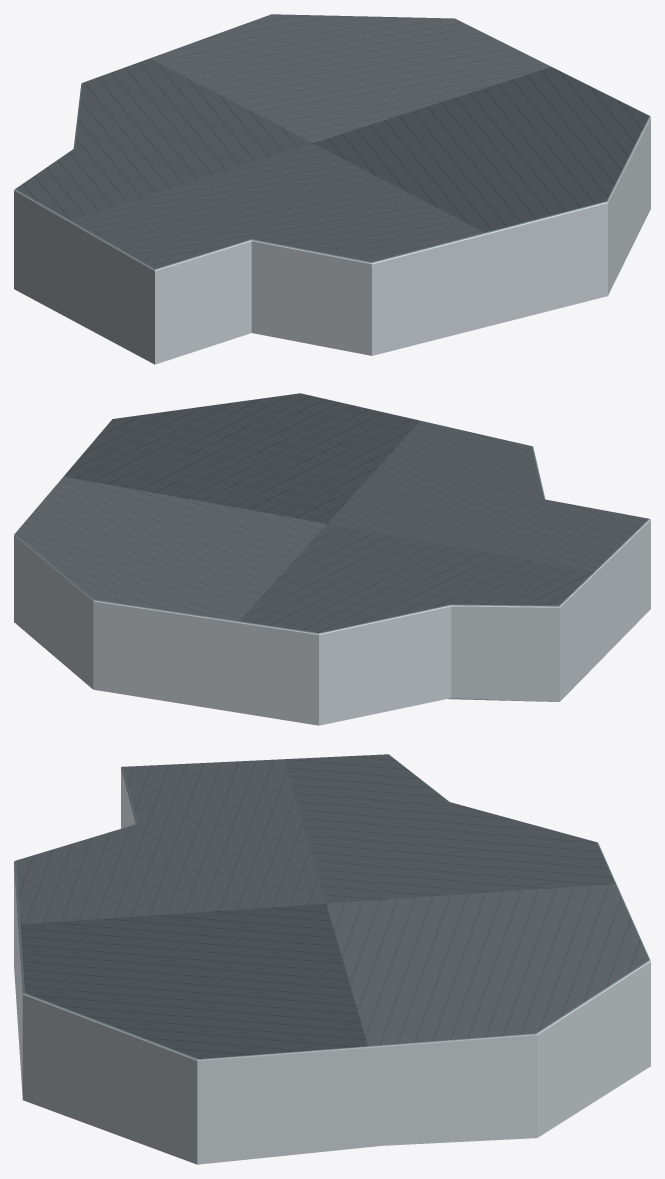
Rendered from fragments.glb.
3 views of the same model, one above another, from view 1: azimuth 30°, elevation 25°; view 2: azimuth 150°, elevation 25°; view 3: azimuth 270°, elevation 25° (orthographic). The views are drawn at different scales.
Visible parts, largest first — view 1: SM_arts_Fragment_000, SM_arts_Fragment_024, SM_arts_Fragment_015, SM_arts_Fragment_038, SM_arts_Fragment_028, SM_arts_Fragment_031, SM_arts_Fragment_040, SM_arts_Fragment_033, SM_arts_Fragment_059, SM_arts_Fragment_044, SM_arts_Fragment_042, SM_arts_Fragment_017 (+34 smaller); view 2: SM_arts_Fragment_009, SM_arts_Fragment_023, SM_arts_Fragment_001, SM_arts_Fragment_053, SM_arts_Fragment_024, SM_arts_Fragment_046, SM_arts_Fragment_006, SM_arts_Fragment_059, SM_arts_Fragment_022, SM_arts_Fragment_012, SM_arts_Fragment_050, SM_arts_Fragment_042 (+30 smaller); view 3: SM_arts_Fragment_004, SM_arts_Fragment_019, SM_arts_Fragment_050, SM_arts_Fragment_027, SM_arts_Fragment_047, SM_arts_Fragment_043, SM_arts_Fragment_026, SM_arts_Fragment_012, SM_arts_Fragment_059, SM_arts_Fragment_042, SM_arts_Fragment_040, SM_arts_Fragment_017 (+29 smaller).
Part boxes in pixels (x1,y1,x2,y2): SM_arts_Fragment_000: [476, 209, 566, 326]; SM_arts_Fragment_024: [14, 173, 164, 273]; SM_arts_Fragment_015: [348, 250, 462, 355]; SM_arts_Fragment_038: [286, 216, 400, 310]; SM_arts_Fragment_028: [157, 207, 250, 306]; SM_arts_Fragment_031: [72, 214, 161, 307]; SM_arts_Fragment_040: [565, 176, 623, 306]; SM_arts_Fragment_033: [386, 216, 503, 300]; SM_arts_Fragment_059: [337, 91, 483, 144]; SM_arts_Fragment_044: [216, 197, 342, 287]; SM_arts_Fragment_042: [228, 64, 361, 118]; SM_arts_Fragment_017: [429, 130, 559, 187]; SM_arts_Fragment_009: [248, 608, 382, 725]; SM_arts_Fragment_023: [197, 578, 327, 702]; SM_arts_Fragment_001: [417, 575, 527, 692]; SM_arts_Fragment_053: [77, 585, 199, 667]; SM_arts_Fragment_024: [481, 543, 597, 641]; SM_arts_Fragment_046: [328, 601, 430, 712]; SM_arts_Fragment_006: [121, 634, 249, 714]; SM_arts_Fragment_059: [162, 470, 292, 526]; SM_arts_Fragment_022: [479, 637, 588, 701]; SM_arts_Fragment_012: [56, 549, 185, 628]; SM_arts_Fragment_050: [14, 516, 87, 645]; SM_arts_Fragment_042: [168, 532, 298, 581]; SM_arts_Fragment_004: [123, 1037, 281, 1164]; SM_arts_Fragment_019: [311, 1010, 456, 1112]; SM_arts_Fragment_050: [484, 992, 598, 1112]; SM_arts_Fragment_027: [421, 1041, 575, 1143]; SM_arts_Fragment_047: [186, 990, 323, 1111]; SM_arts_Fragment_043: [76, 992, 223, 1111]; SM_arts_Fragment_026: [265, 1082, 429, 1157]; SM_arts_Fragment_012: [484, 936, 629, 1058]; SM_arts_Fragment_059: [249, 924, 410, 989]; SM_arts_Fragment_042: [381, 897, 526, 957]; SM_arts_Fragment_040: [21, 970, 87, 1105]; SM_arts_Fragment_017: [121, 935, 257, 995].
Bounding box in the file's own units: 2.2 × 0.3809 × 1.94.
Materials: 4 (1 with a texture image).
